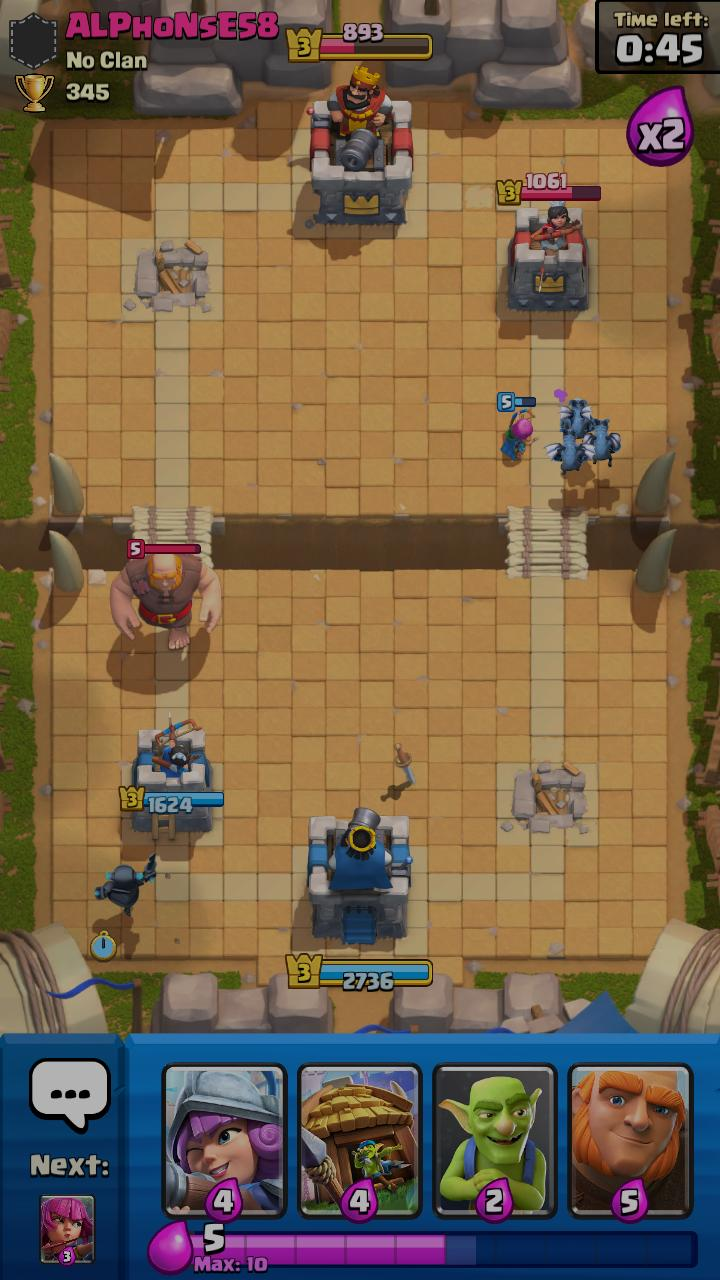ally: (94, 852, 157, 916), (497, 392, 541, 461), (543, 429, 597, 475), (583, 418, 621, 467), (558, 398, 595, 440)
enemy: (110, 539, 222, 651)
